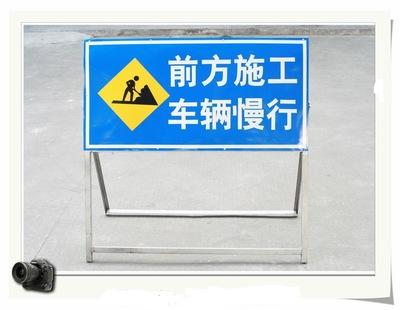sign: (84, 42, 309, 148)
